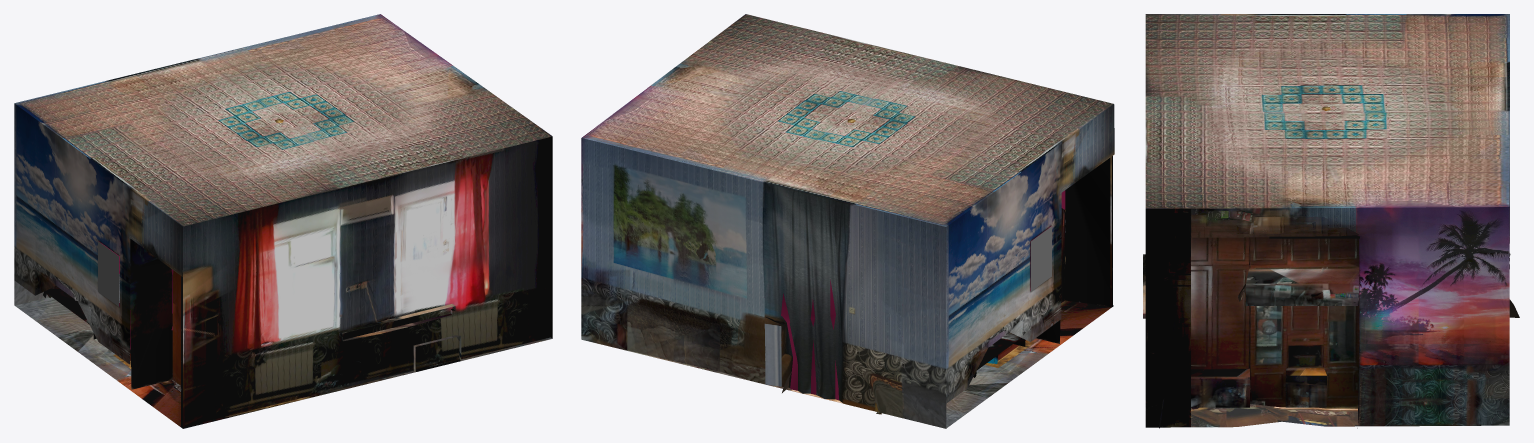
Rendered from room.obj.
3 renders of one model, left to right at view 1: azimuth 30°, elevation 25°; view 2: azimuth 150°, elevation 25°; view 3: azimuth 270°, elevation 25°, orthographic. The views are drawn at different scales.
Parts seen in each view (by area): view 1: shkafWindow, floor, krovat_vid002, mirror, pc, krav; view 2: floor, divanWall, krovat_vid002, walloff, collizian, mirror, krav; view 3: floor, pc, shkafWindow.
Part boxes in pixels (x1,y1,x2,y2): shkafWindow: [182, 137, 550, 426]; floor: [14, 14, 552, 428]; krovat_vid002: [14, 103, 182, 427]; mirror: [98, 241, 118, 306]; pc: [550, 136, 552, 338]; krav: [44, 274, 119, 339]; floor: [582, 14, 1113, 428]; divanWall: [581, 119, 946, 428]; krovat_vid002: [876, 104, 1114, 414]; walloff: [763, 183, 903, 418]; collizian: [781, 190, 1065, 400]; mirror: [1031, 226, 1051, 291]; krav: [977, 332, 1025, 369]; floor: [1143, 14, 1509, 427]; pc: [1145, 207, 1509, 427]; shkafWindow: [1159, 231, 1359, 428].
Size of the model in its own units: 105 by 55.81 by 85.15.
